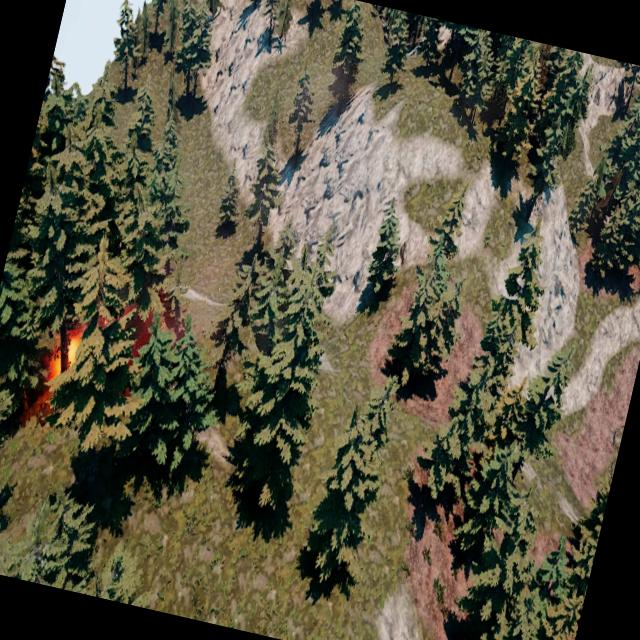fire: (42, 326, 84, 394)
